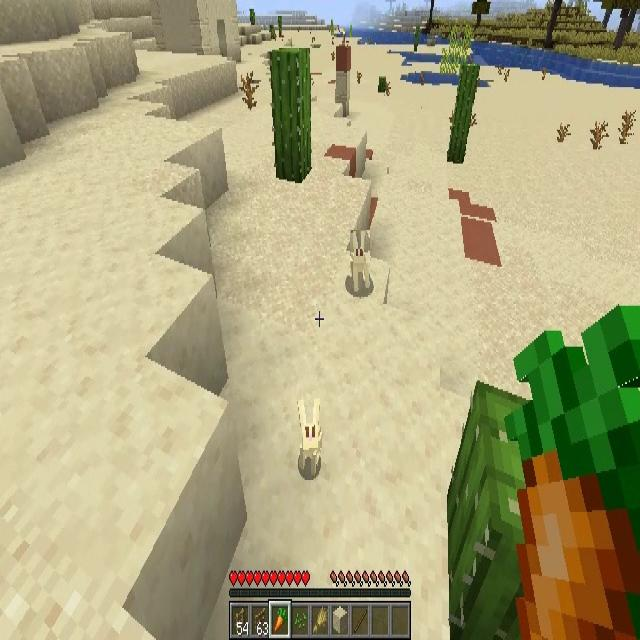rabbit: (298, 398, 322, 469), (350, 230, 370, 294)
